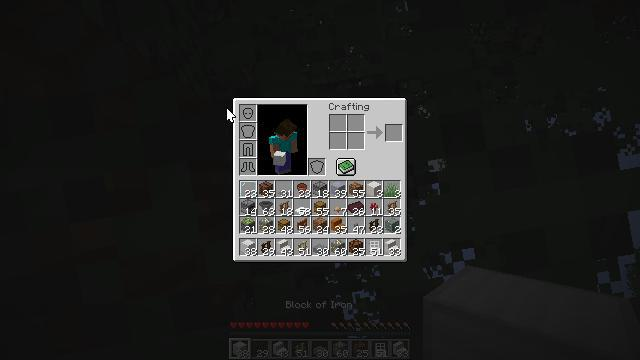cursor: (107, 226, 123, 236)
